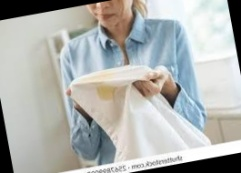mustard: (93, 78, 122, 106)
